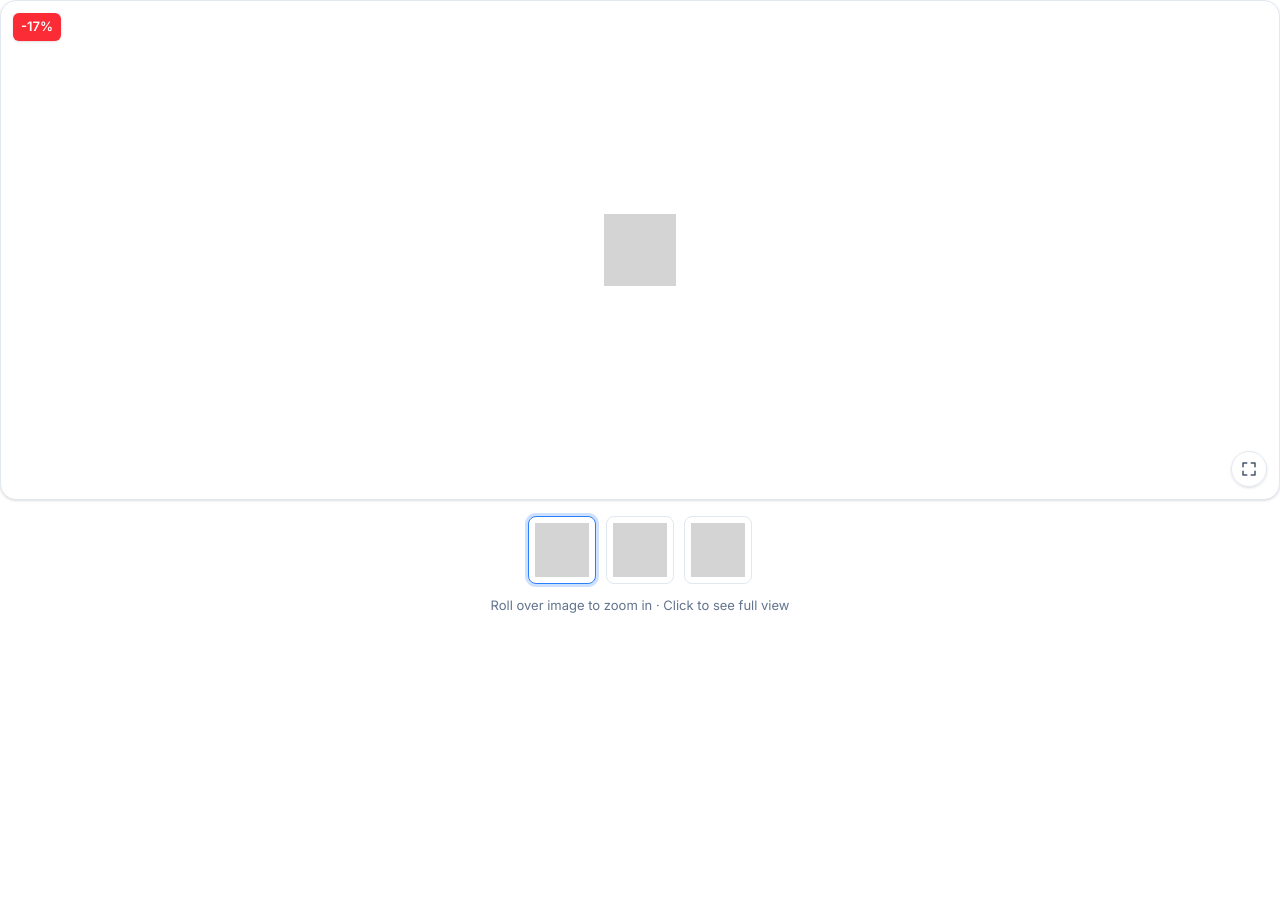
Test case: ProductGallery › opens the full view and closes it with Escape
The image size is (1280, 900).
Click the button named "Open full view". click: x=1249, y=469
box: [1231,451,1267,487]
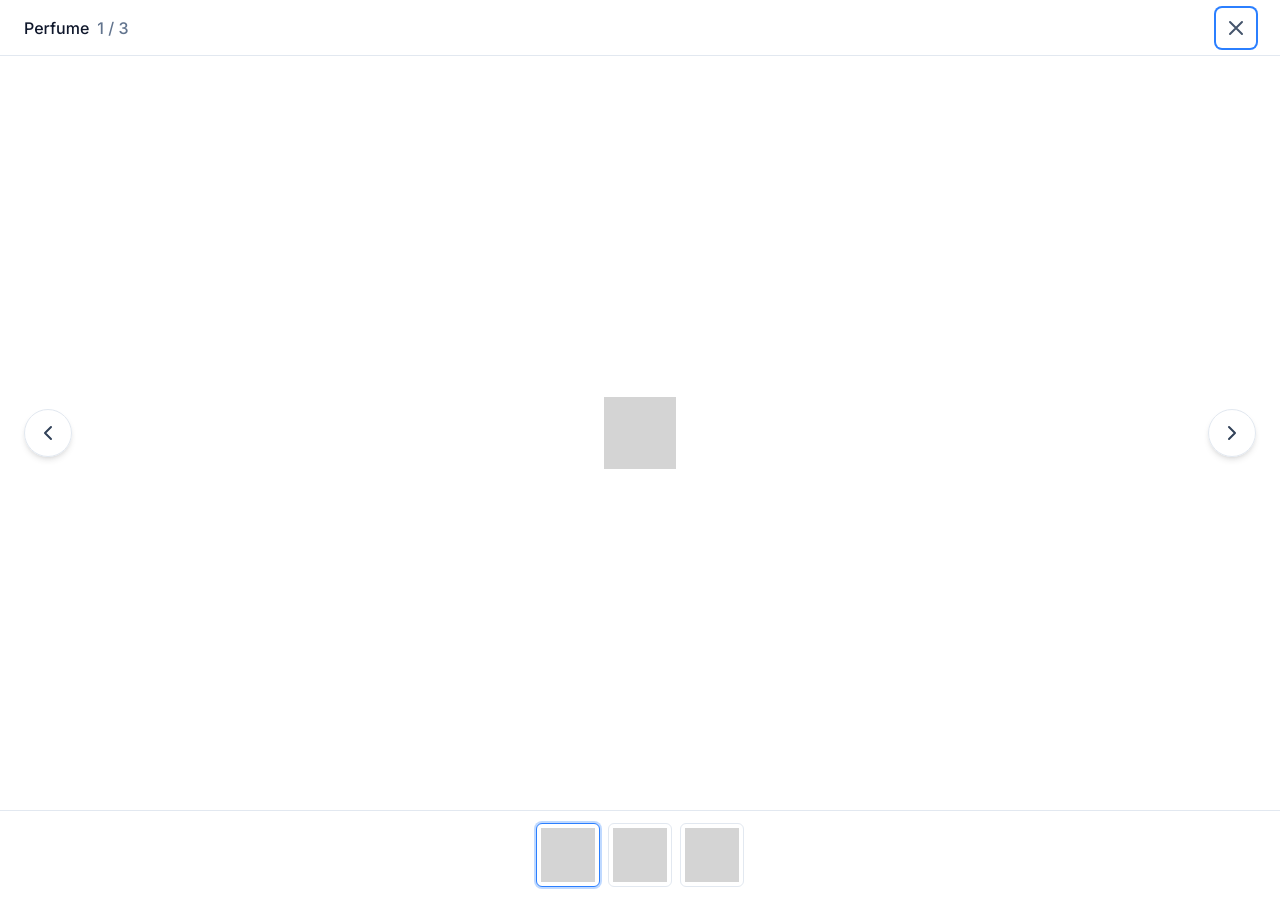
Expected: the dialog named "Perfume images" is shown
Press ArrowRight
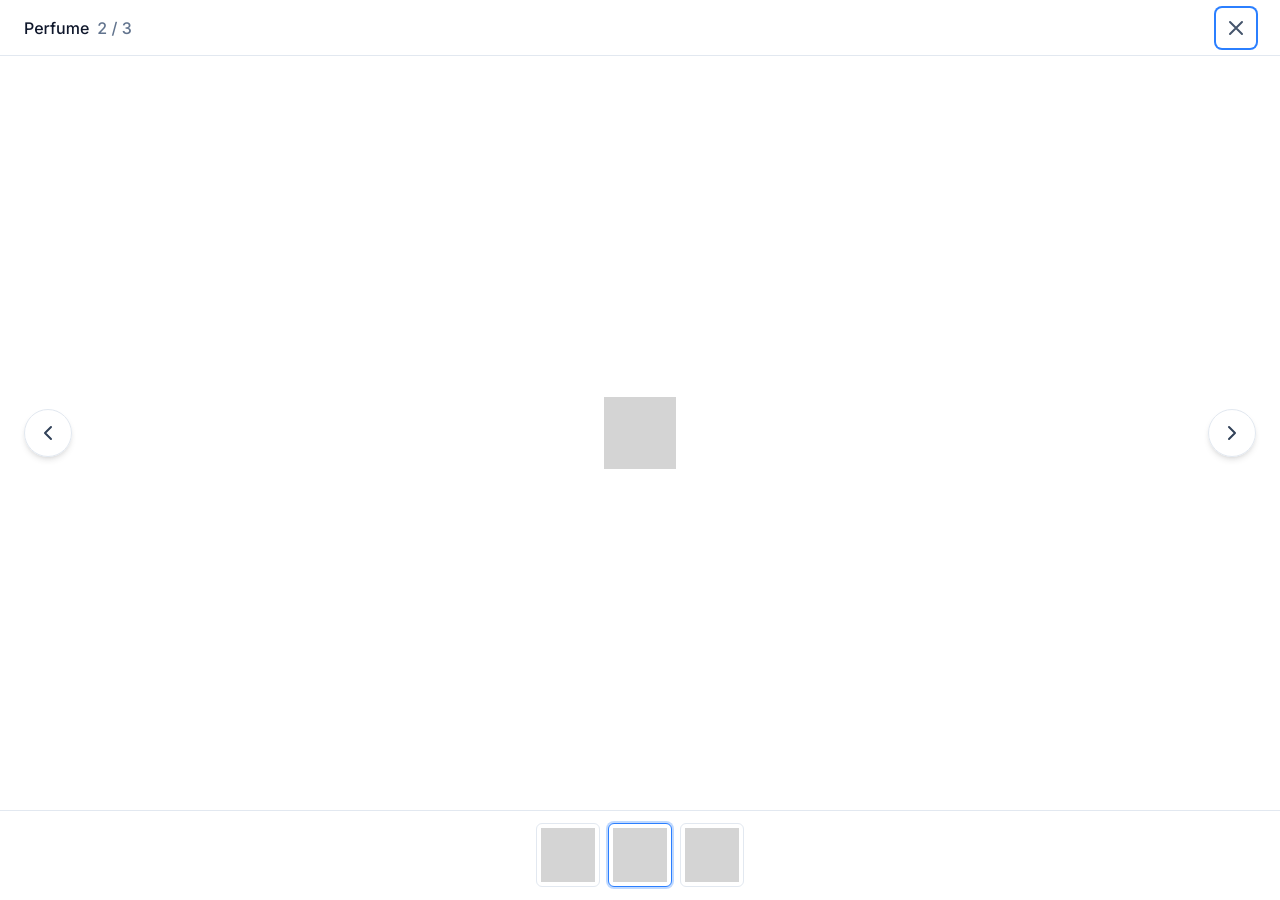
Expected: the text "2 / 3" is shown, [97,18,132,38]
Press Escape
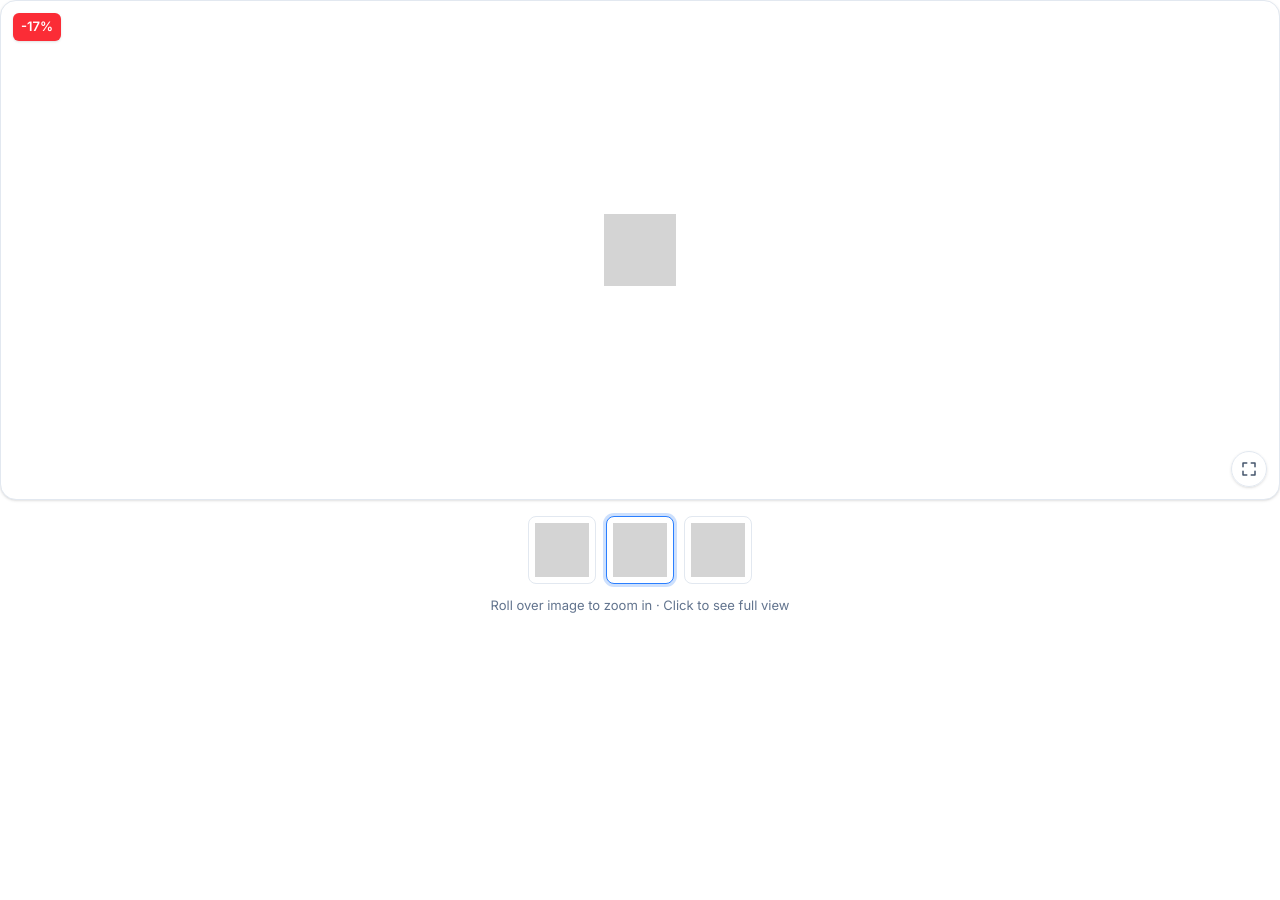
Expected: the dialog is gone
